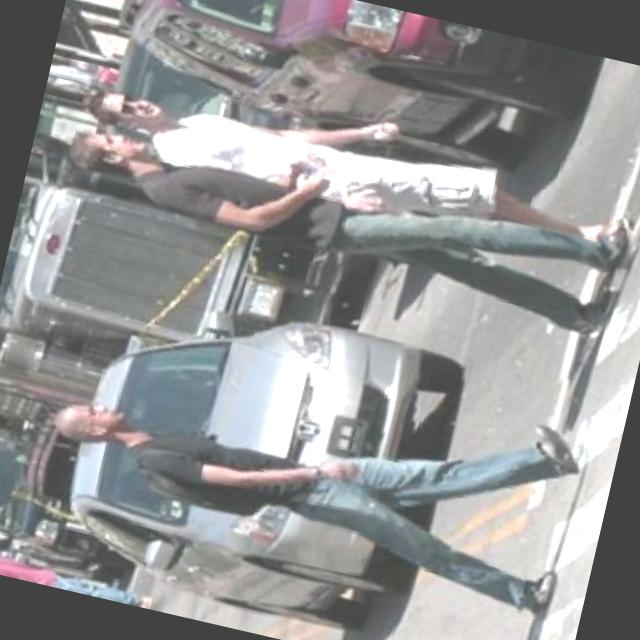Person: (31, 310, 593, 610), (50, 96, 640, 342), (74, 54, 640, 261)
